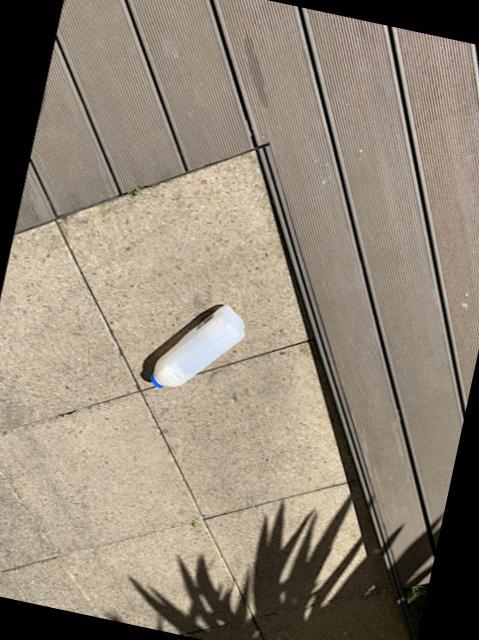plastic: (151, 306, 242, 386)
